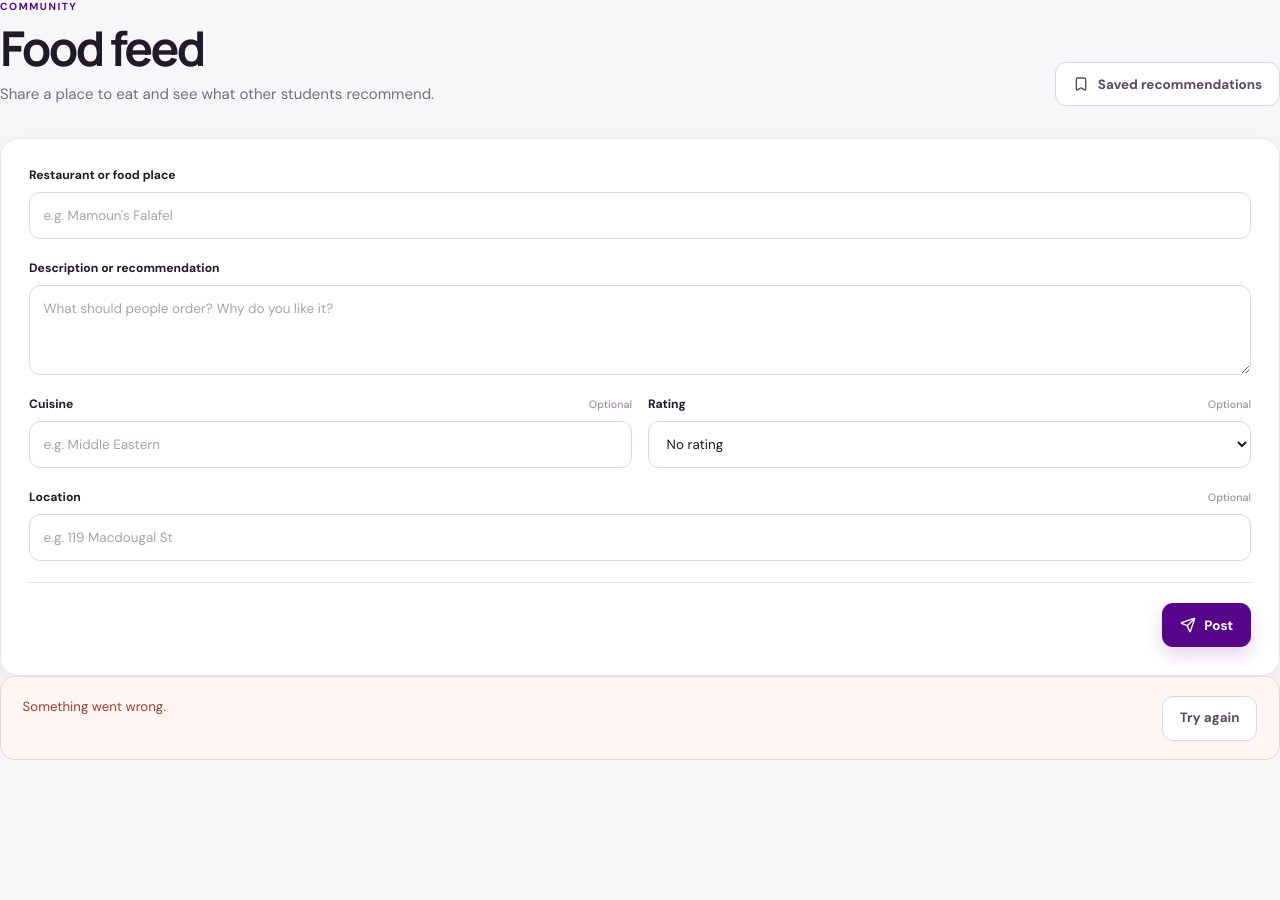
viewing the food feed › shows an error with a working retry when the feed fails to load
The width and height of the screenshot is (1280, 900).
Expected: the message shows "Something went wrong.", [23,698,166,715]
Click the button "Try again" at {"x": 1210, "y": 718}, box [1162,696,1257,741]
(page scrolled)
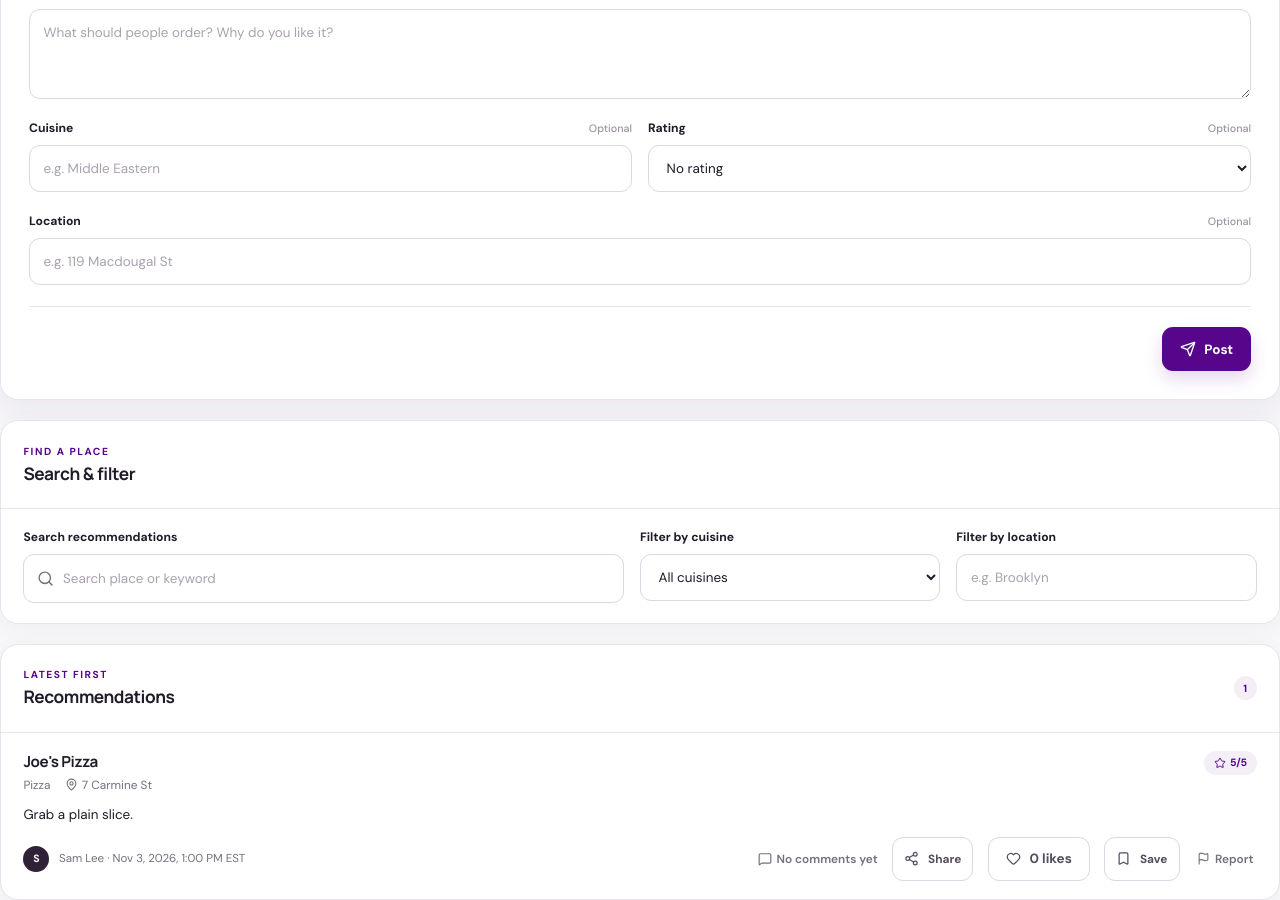
Expected: the element "Joe's Pizza" is shown, [1,732,1279,899]
